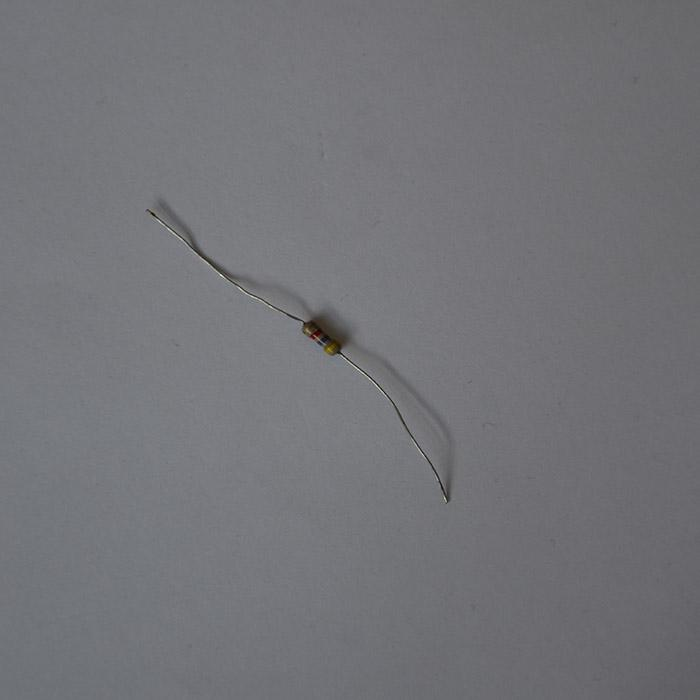resistor: (297, 317, 344, 357)
